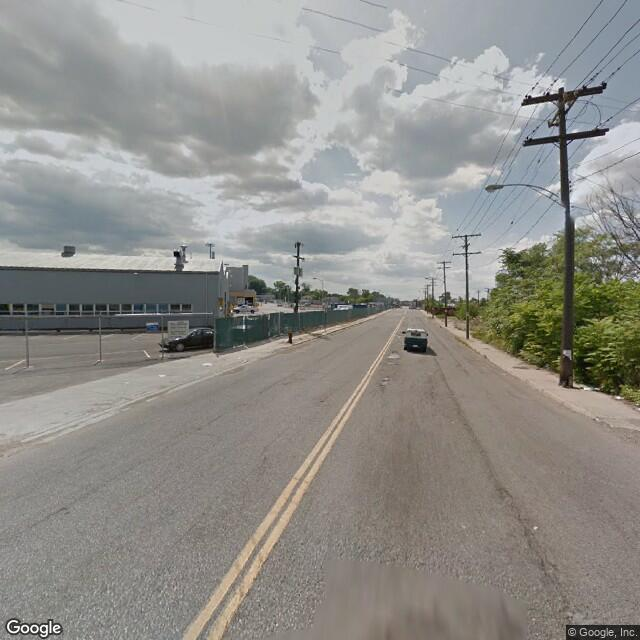litter: (579, 382, 603, 392), (614, 389, 616, 406)
